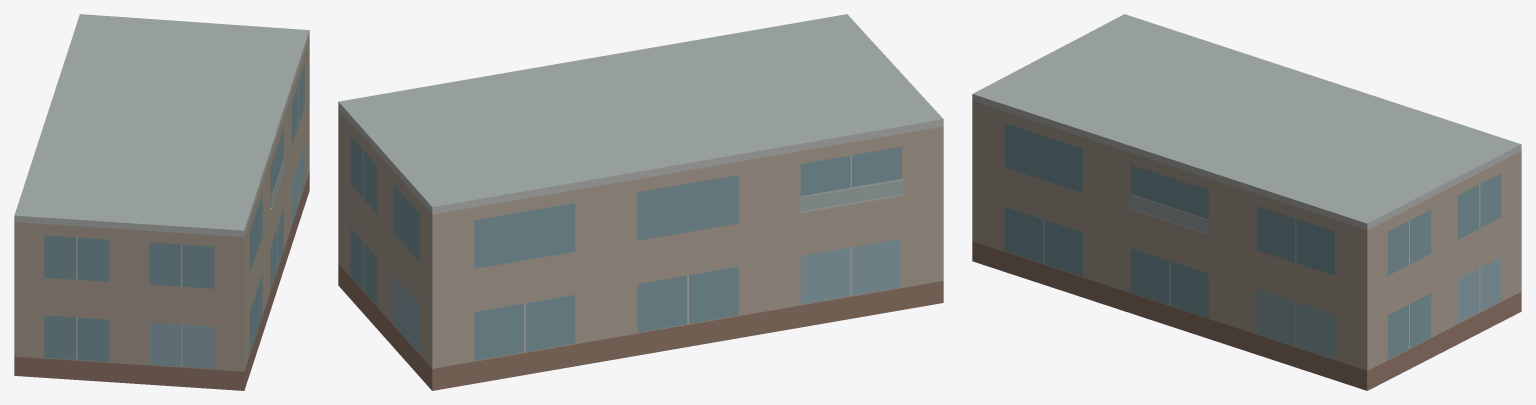
Rendered from survey-upis-32848725.glb.
3 renders of one model, left to right at view 1: azimuth 30°, elevation 25°; view 2: azimuth 150°, elevation 25°; view 3: azimuth 270°, elevation 25°, orthographic. The views are drawn at different scales.
Visible parts, largest first — view 1: survey-upis-32848725.tmp; view 2: survey-upis-32848725.tmp; view 3: survey-upis-32848725.tmp.
Boxes of the visible parts, <box> form: survey-upis-32848725.tmp: <box>14,14,309,390</box>; survey-upis-32848725.tmp: <box>338,14,943,390</box>; survey-upis-32848725.tmp: <box>972,14,1521,390</box>.
Size of the model in its own units: 16.41 by 6.1 by 18.17.
